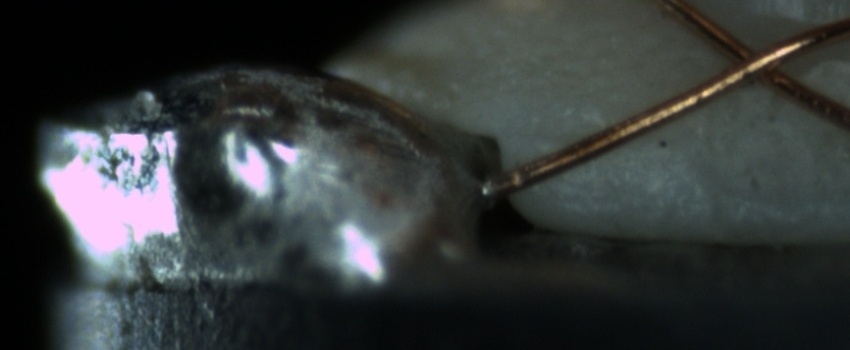CL: (702, 25, 808, 98)
